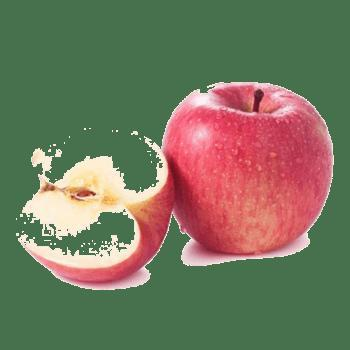apple: (164, 82, 336, 254), (18, 148, 174, 284)
